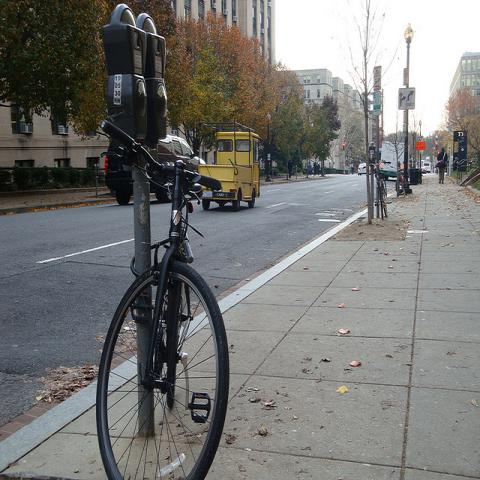car: (106, 135, 210, 206), (420, 158, 432, 173), (358, 163, 371, 175), (420, 166, 427, 174)
truck: (197, 119, 261, 211), (380, 140, 404, 181)
